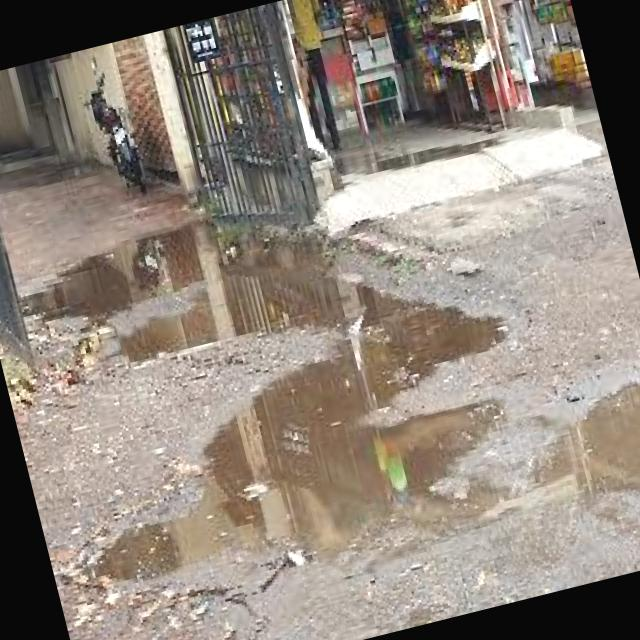waterlogging: (43, 273, 556, 617), (510, 361, 640, 529)
